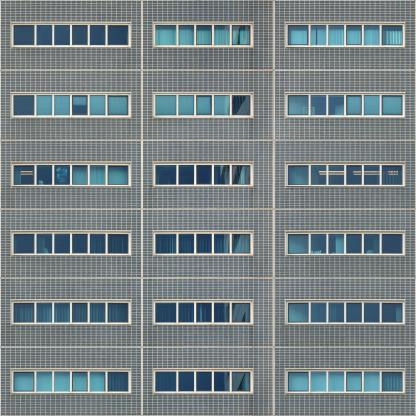Building Outline: (0, 0, 416, 416)
Facade: (1, 0, 416, 416)
Floor: (0, 346, 416, 409), (0, 0, 416, 63), (0, 70, 416, 133), (0, 140, 416, 202), (0, 209, 416, 271), (0, 278, 416, 340)
Floor Slab: (0, 409, 416, 416), (0, 63, 416, 70), (0, 133, 416, 140), (0, 202, 416, 209), (0, 271, 416, 278), (0, 340, 416, 347)
Window: (286, 369, 405, 393), (286, 93, 405, 117), (286, 162, 405, 186), (286, 231, 405, 255), (286, 300, 405, 324), (12, 369, 130, 393), (12, 93, 130, 117), (12, 162, 130, 186), (12, 231, 130, 255), (12, 300, 130, 324), (286, 23, 405, 46), (12, 23, 130, 46), (153, 369, 252, 393), (154, 93, 253, 117), (154, 162, 253, 186), (154, 231, 253, 255), (154, 300, 253, 324), (154, 23, 253, 46)
